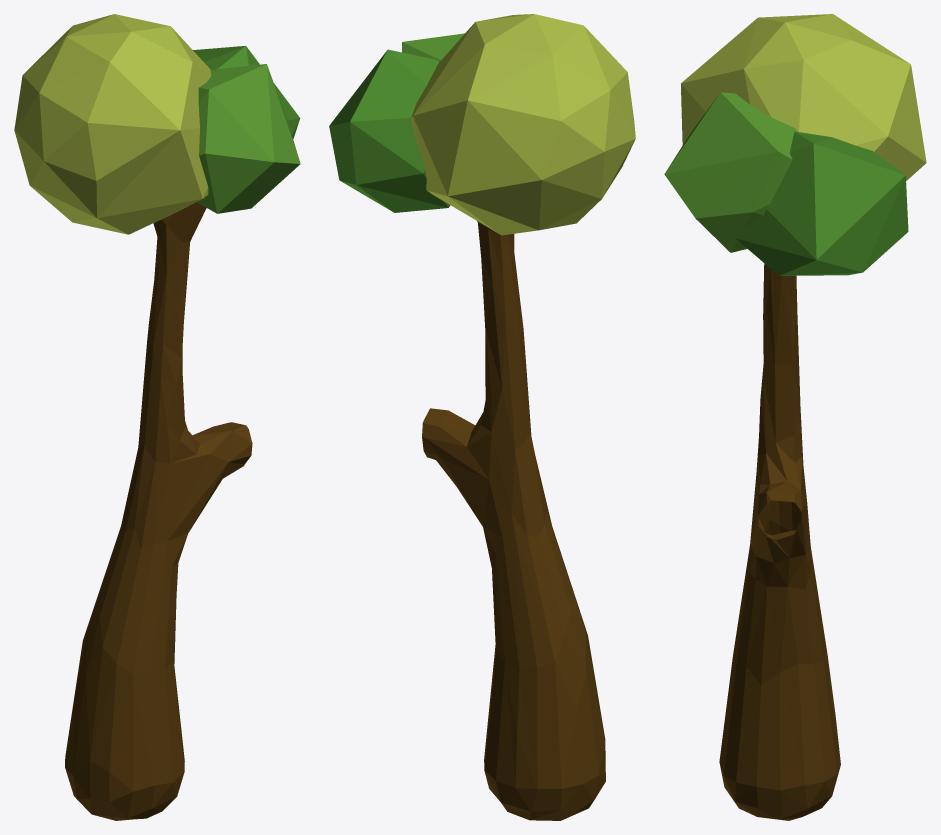
Rendered from tree.glb.
3 views of the same model, side by side, from view 1: azimuth 30°, elevation 25°; view 2: azimuth 150°, elevation 25°; view 3: azimuth 270°, elevation 25° (orthographic). The views are drawn at different scales.
Parts seen in each view (by area): view 1: Cube, Icosphere, Icosphere.002, Icosphere.001; view 2: Cube, Icosphere, Icosphere.001, Icosphere.002; view 3: Cube, Icosphere, Icosphere.001, Icosphere.002.
Part boxes in pixels (<box>): Cube: <box>65,202,252,820</box>; Icosphere: <box>14,14,210,234</box>; Icosphere.002: <box>197,64,300,213</box>; Icosphere.001: <box>193,46,300,138</box>; Cube: <box>422,221,605,820</box>; Icosphere: <box>410,14,635,235</box>; Icosphere.001: <box>329,49,450,212</box>; Icosphere.002: <box>402,33,464,62</box>; Cube: <box>719,263,840,820</box>; Icosphere: <box>681,14,926,180</box>; Icosphere.001: <box>735,131,908,275</box>; Icosphere.002: <box>664,92,796,252</box>.
Size of the model in its own units: 2.03 by 5.42 by 1.63.
